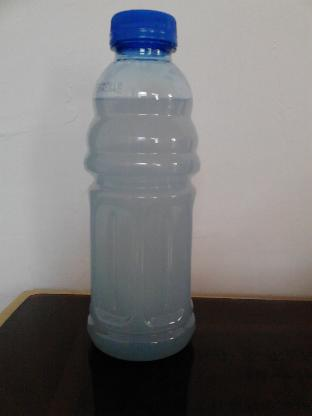Plastic Bottle: (84, 11, 198, 362)
